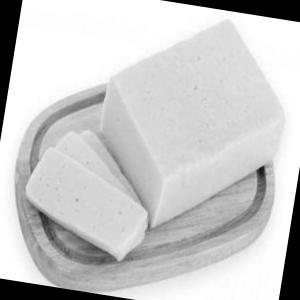cheese: (0, 0, 293, 298)
